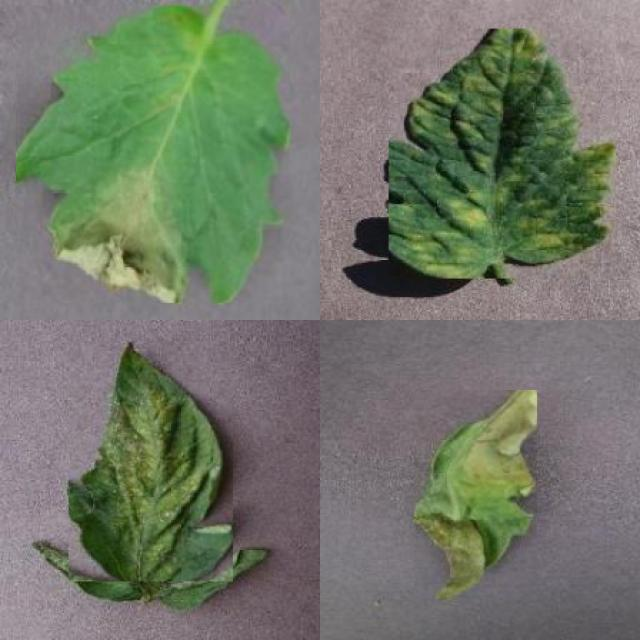Late Blight: (16, 7, 291, 304), (414, 391, 537, 599)
Leaf Mold: (388, 28, 616, 278)
Spider Mites: (68, 342, 233, 582)
